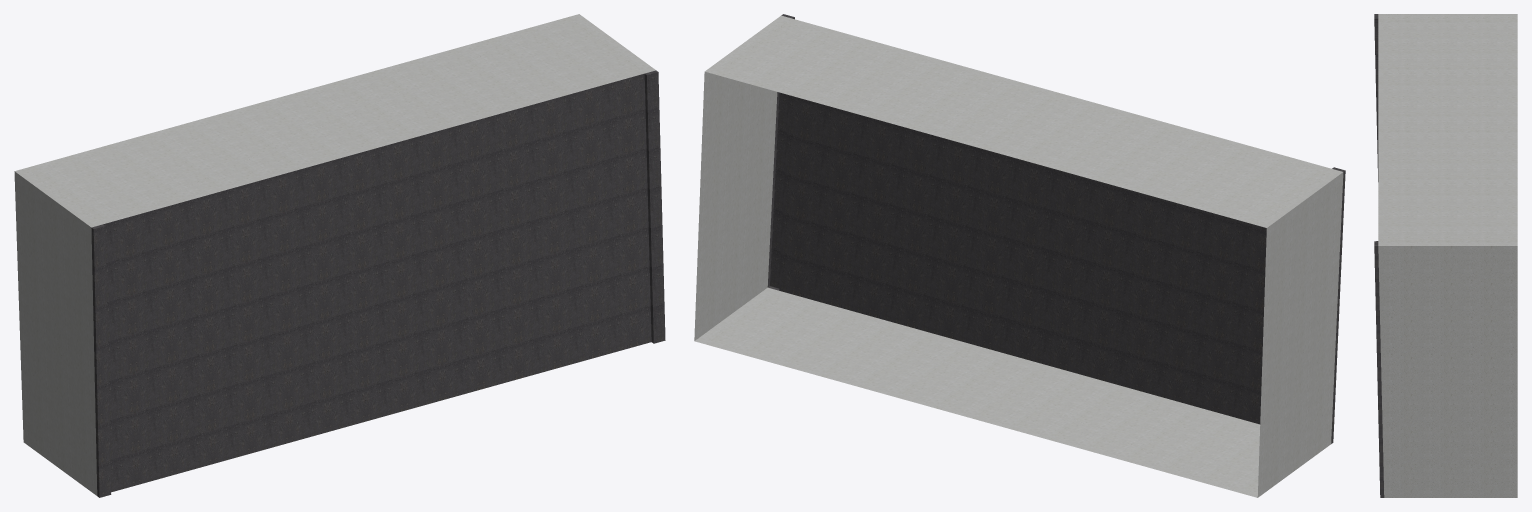
File: Aia_19.obj
The picture shows the model from 3 angles, left to right: view 1: azimuth 30°, elevation 25°; view 2: azimuth 150°, elevation 25°; view 3: azimuth 270°, elevation 25°; orthographic projection. The views are drawn at different scales.
Parts seen in each view (by area): view 1: Aia_19; view 2: Aia_19; view 3: Aia_19.
Part boxes in pixels (x1=…): Aia_19: x1=14, y1=14, x2=665, y2=497; Aia_19: x1=694, y1=14, x2=1345, y2=497; Aia_19: x1=1374, y1=14, x2=1517, y2=497.
Size of the model in its own units: 15.02 by 7.31 by 3.58.
